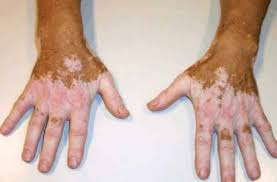vitiligo: (12, 26, 271, 173)
